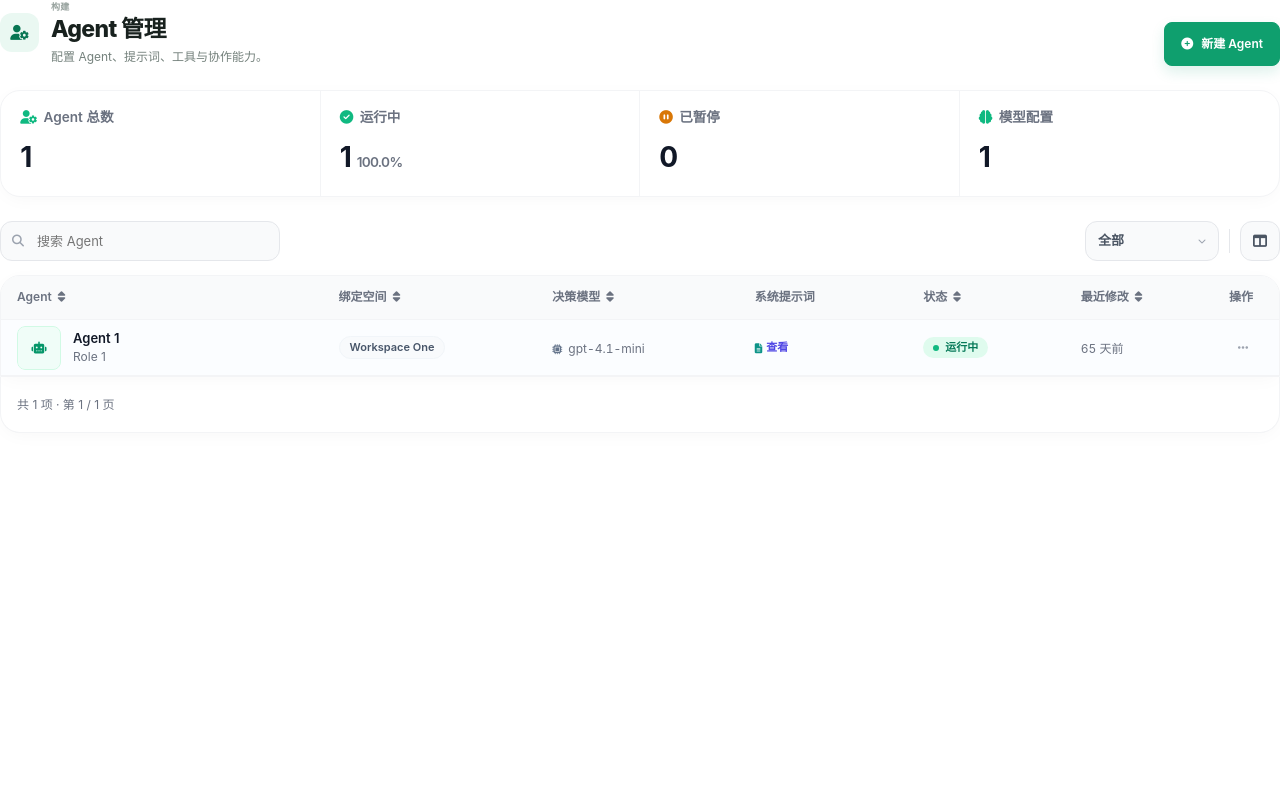
Test case: agents view behavior › shows inline guidance when a dirty Agent studio close is blocked
The width and height of the screenshot is (1280, 800).
Click the button with class "agent-create-button" at (1222, 44), box [1164,22,1279,66]
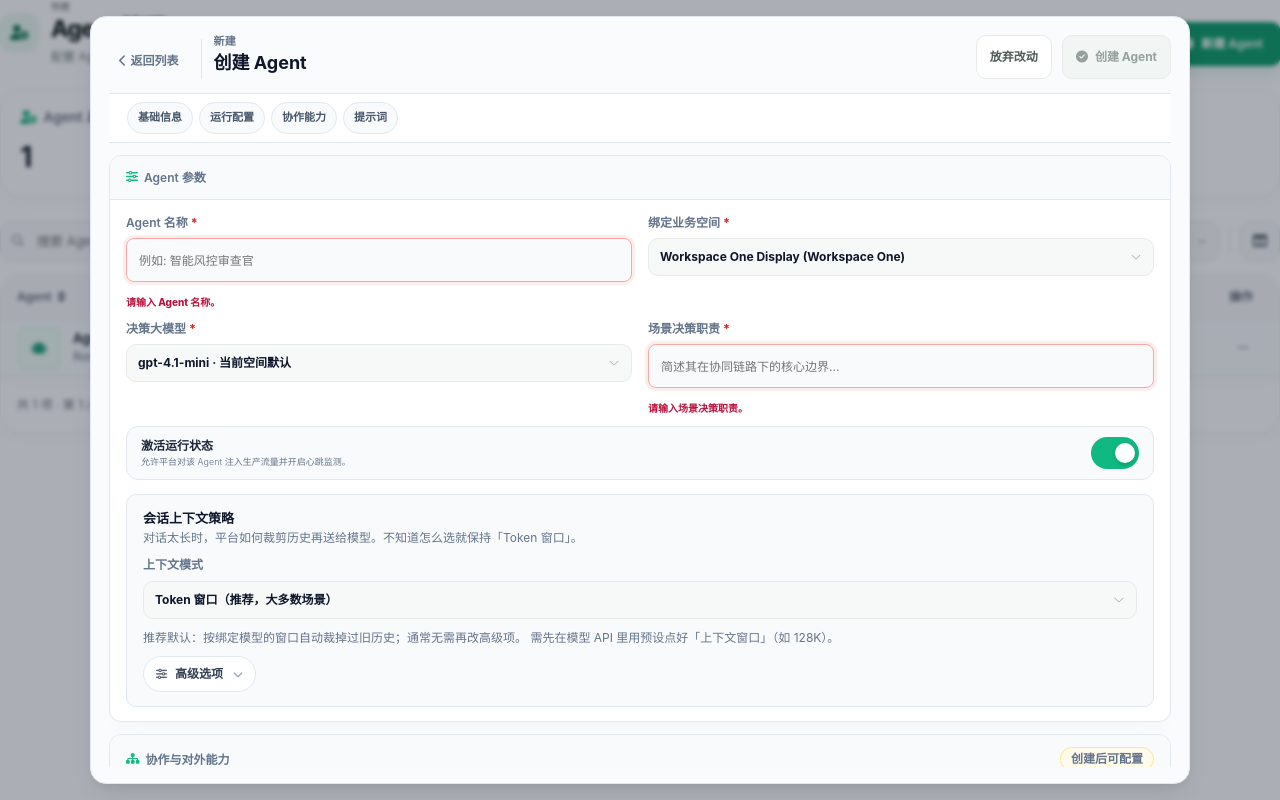
Type "Changed Agent Name" into the field labelled "Agent 名称 * 请输入 Agent 名称。" at (379, 260), box [126,238,632,282]
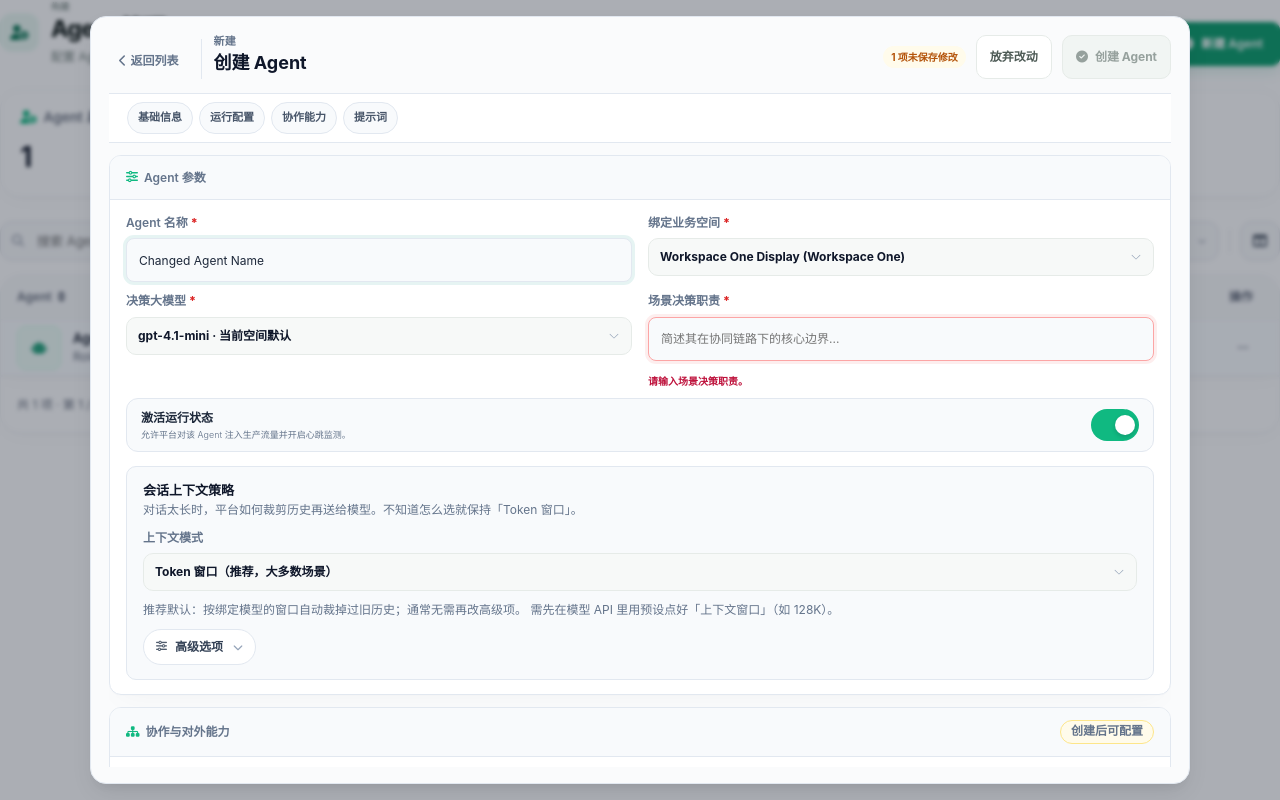
Click the element with class "agent-studio-backdrop" at (77, 400), box [0,0,1279,799]
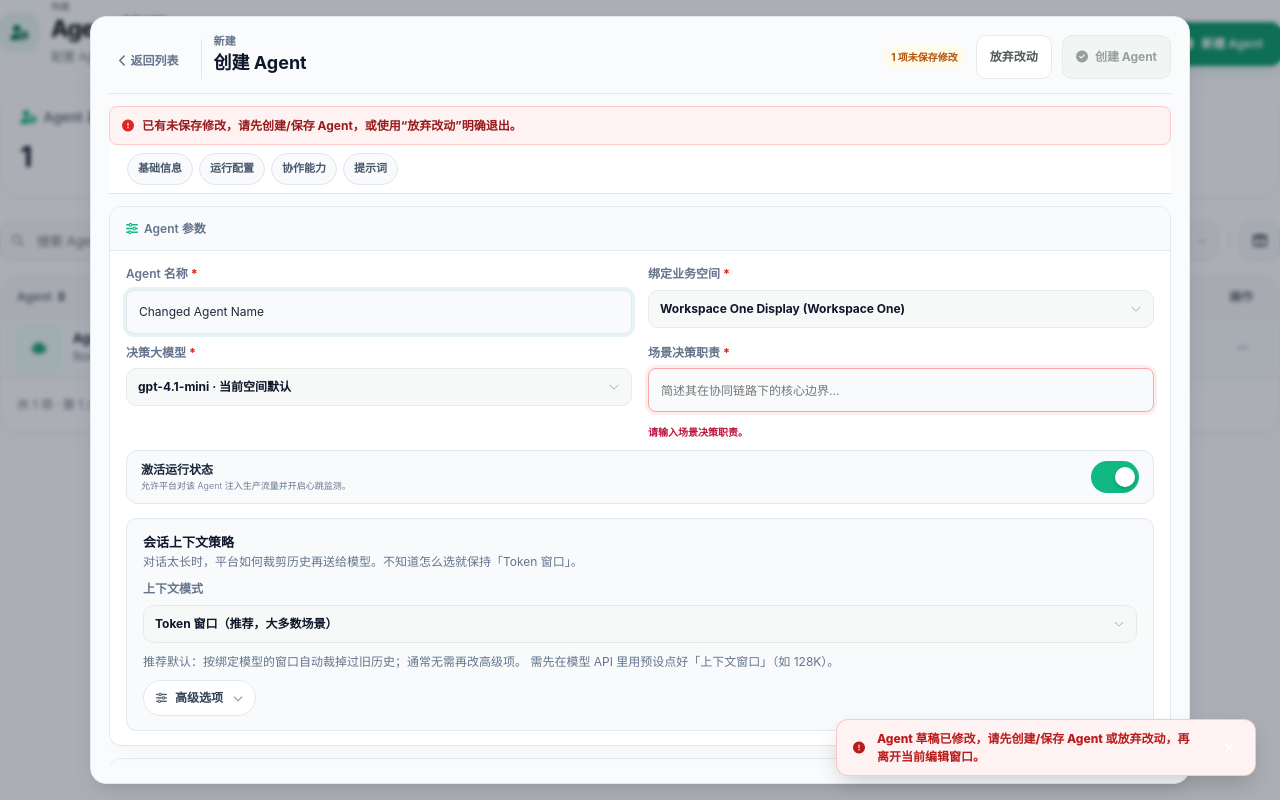
Expected: the message "已有未保存修改，请先创建/保存 Agent，或使用“放弃改动”明确退出。" is shown, [109,106,1171,145]
Expected: the message with class "agent-studio-inline-warning" shows "已有未保存修改", [142,118,522,133]
